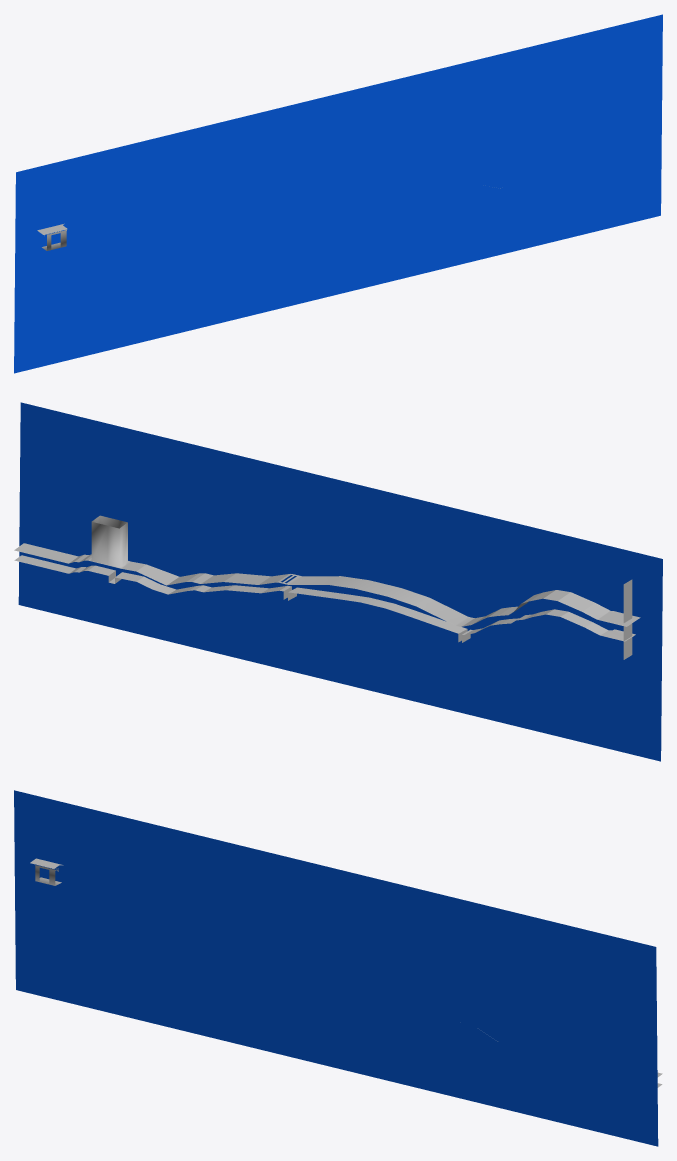
The model's file is Level 1 Example.fbx.
The picture shows the model from 3 angles, top to bottom: view 1: azimuth 30°, elevation 25°; view 2: azimuth 150°, elevation 25°; view 3: azimuth 330°, elevation 25°; orthographic projection.
Visible parts, largest first — view 1: Plane__1_; view 2: Plane__1_, Plane__2_, Plane; view 3: Plane__1_.
Boxes of the visible parts, bbox=[...] form: Plane__1_: bbox=[14, 14, 662, 373]; Plane__1_: bbox=[18, 402, 662, 761]; Plane__2_: bbox=[14, 515, 640, 626]; Plane: bbox=[14, 555, 635, 659]; Plane__1_: bbox=[14, 790, 658, 1146].
Size of the model in its own units: 25984 by 7777 by 1350.
